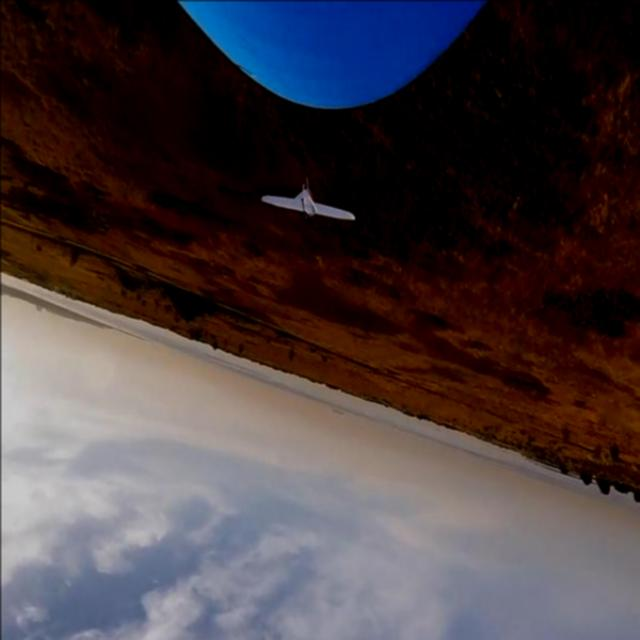plane: (258, 176, 355, 223)
